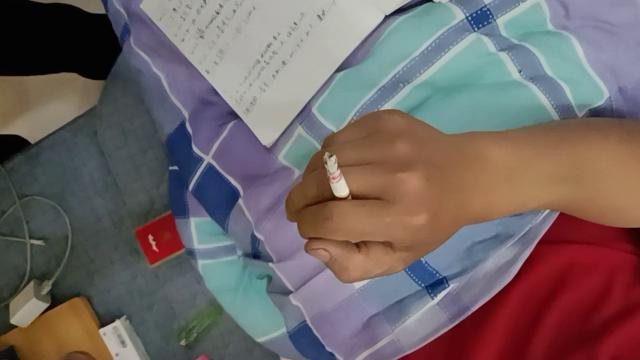Smoking: (323, 151, 355, 214)
